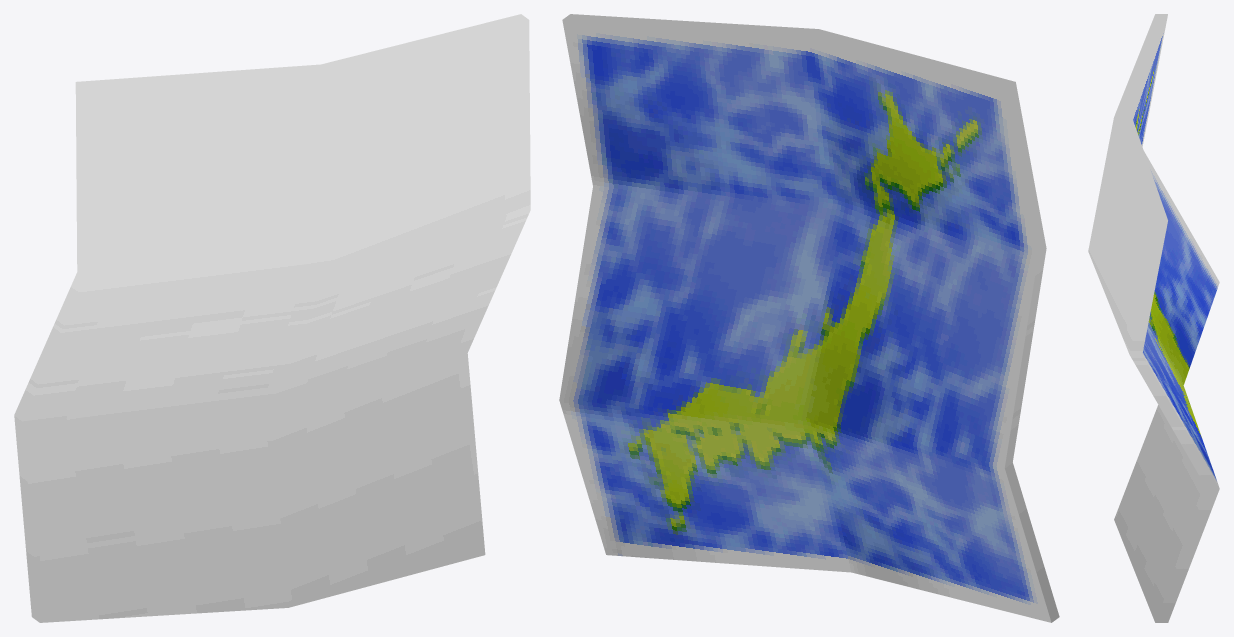
The model's file is ps2_save-icons_gacharoku.glb.
3 views of the same model, side by side, from view 1: azimuth 30°, elevation 25°; view 2: azimuth 150°, elevation 25°; view 3: azimuth 270°, elevation 25° (orthographic). The views are drawn at different scales.
Visible parts, largest first — view 1: view.ico; view 2: view.ico; view 3: view.ico.
Boxes of the visible parts, left/top/right/bottom form: view.ico: left=14, top=14, right=530, bottom=622; view.ico: left=559, top=14, right=1059, bottom=622; view.ico: left=1088, top=14, right=1219, bottom=622.
Size of the model in its own units: 4.38 by 4.83 by 1.27.
Materials: 1 (1 with a texture image).
